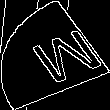M_SE: (12, 21, 98, 89)
